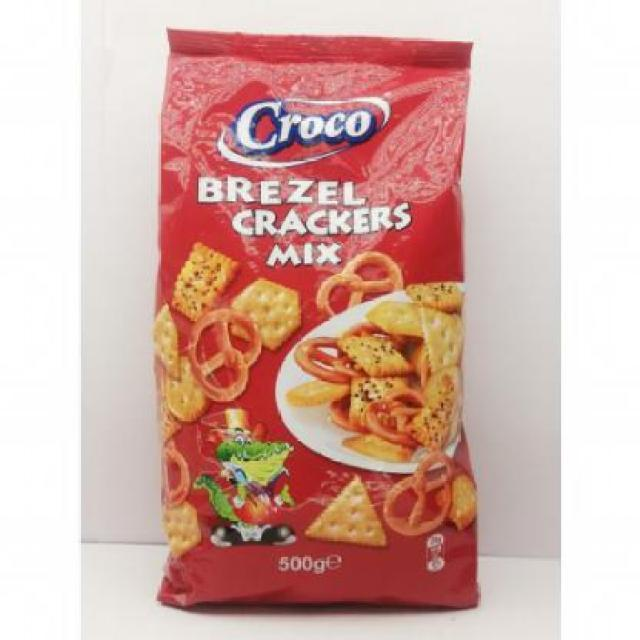Salatini: (155, 18, 488, 614)
